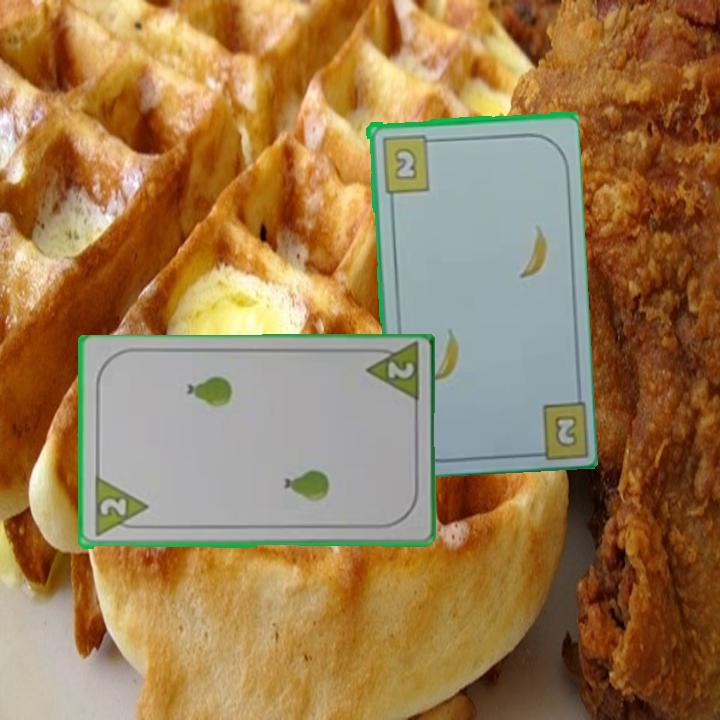2b: (378, 131, 439, 195), (550, 411, 580, 447)
2p: (91, 475, 150, 540), (384, 359, 417, 383)
